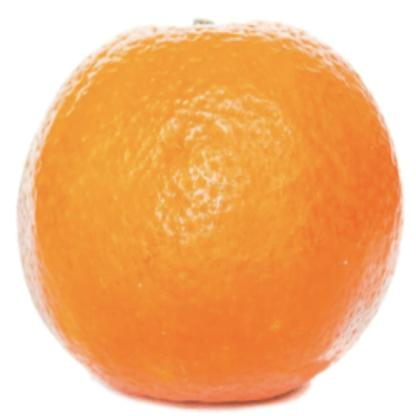fresh: (19, 25, 399, 408)
